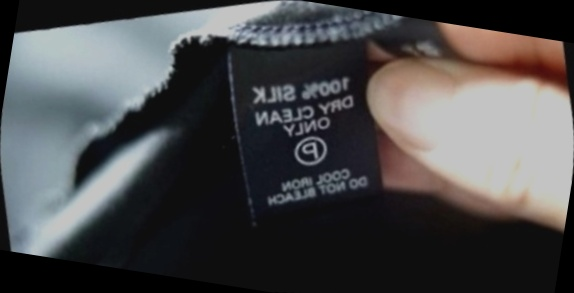dry_clean_any_solvent_except_trichloroethylene: (279, 120, 340, 180)
